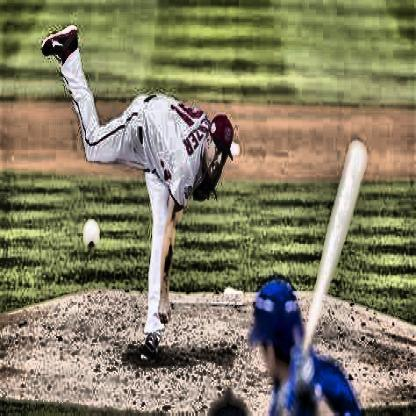baseball: (83, 217, 100, 250)
